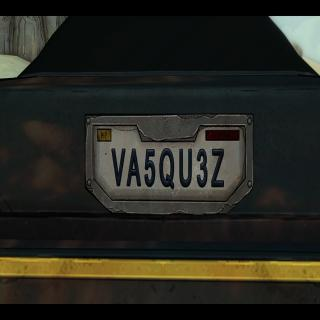license: (87, 113, 254, 215)
